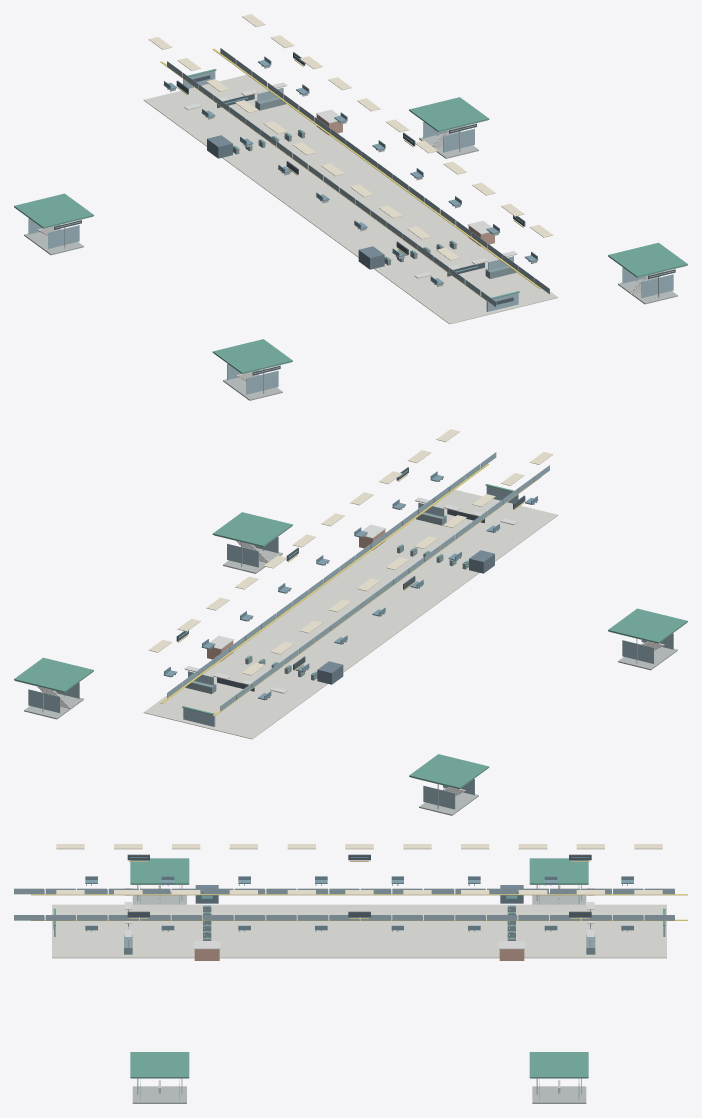
3 views of the same model, one above another, from view 1: azimuth 30°, elevation 25°; view 2: azimuth 150°, elevation 25°; view 3: azimuth 270°, elevation 25° (orthographic).
Visible parts, largest first — view 1: Station interior and street-level illustrative furniture; view 2: Station interior and street-level illustrative furniture; view 3: Station interior and street-level illustrative furniture.
Part boxes in pixels (box(x1,y1,x2,y2)): Station interior and street-level illustrative furniture: box(14, 14, 687, 400); Station interior and street-level illustrative furniture: box(14, 429, 687, 815); Station interior and street-level illustrative furniture: box(14, 844, 687, 1103).
Bounding box in the file's own units: 98.4 × 27.2 × 128.
